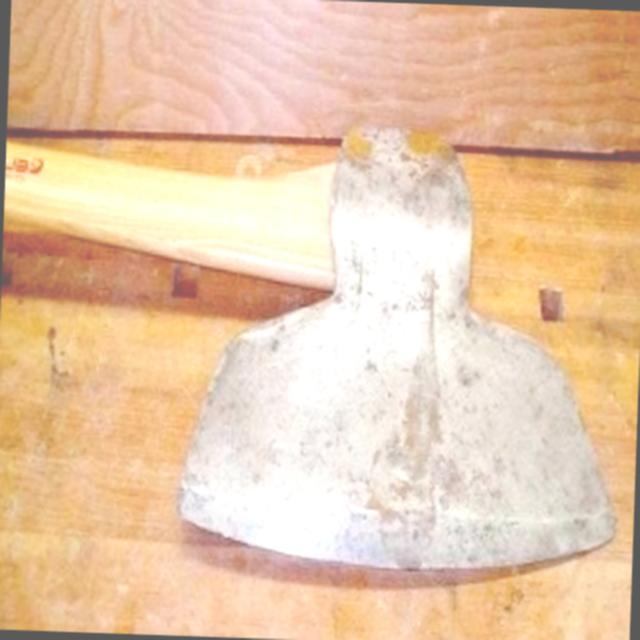ax: (0, 112, 635, 590)
